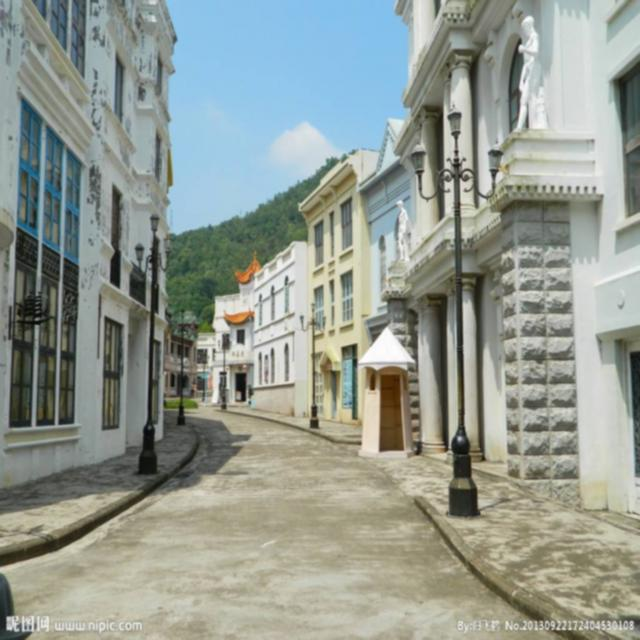pole: (451, 194, 478, 514), (139, 282, 160, 472), (175, 331, 186, 423), (308, 331, 318, 427)
